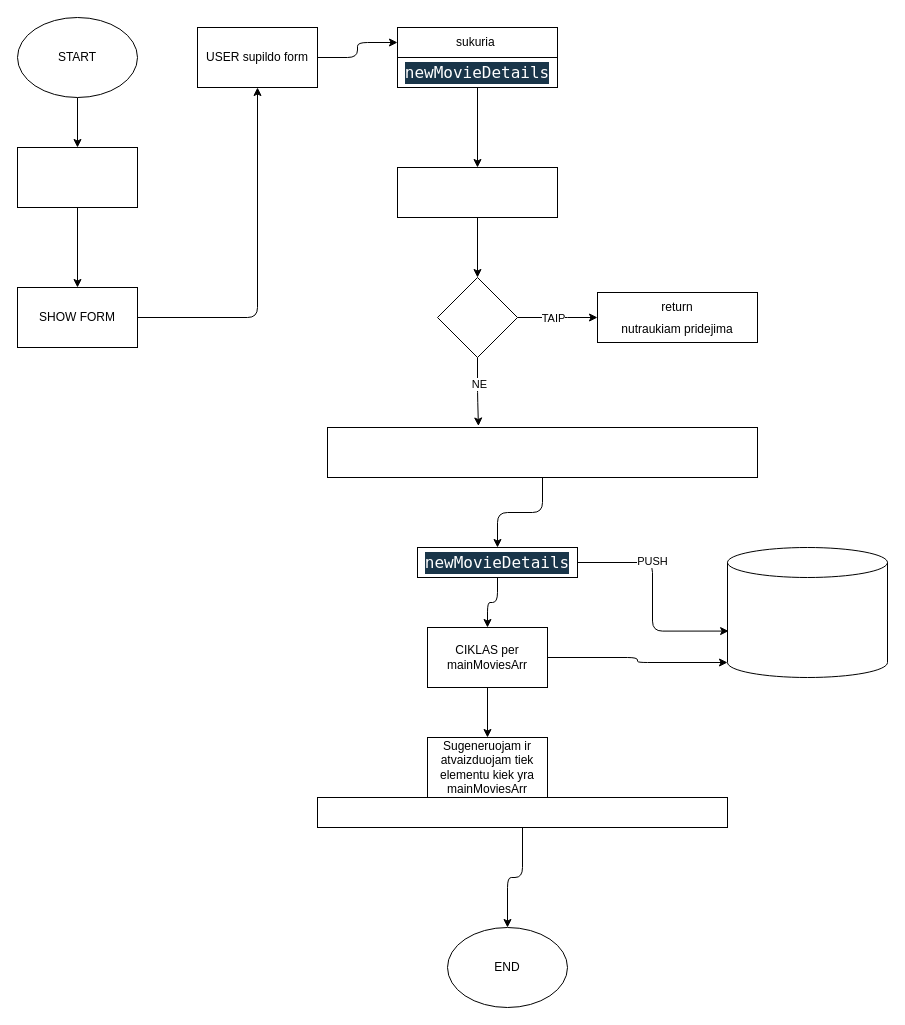
Image size: 905x1025. Some labels were removed from this diagram. Each missing label, with the centre of its shape:
ADD MOVIE Click: the point at 77,177
addNewMovieHandler ( newMovieDetails ): the point at 542,452
els . moviesContainer . append ( newMovieHtmlEl ): the point at 522,812
mainMoviesArr: the point at 807,612
mini validacija ar yra tusiu lauku?: the point at 477,192
